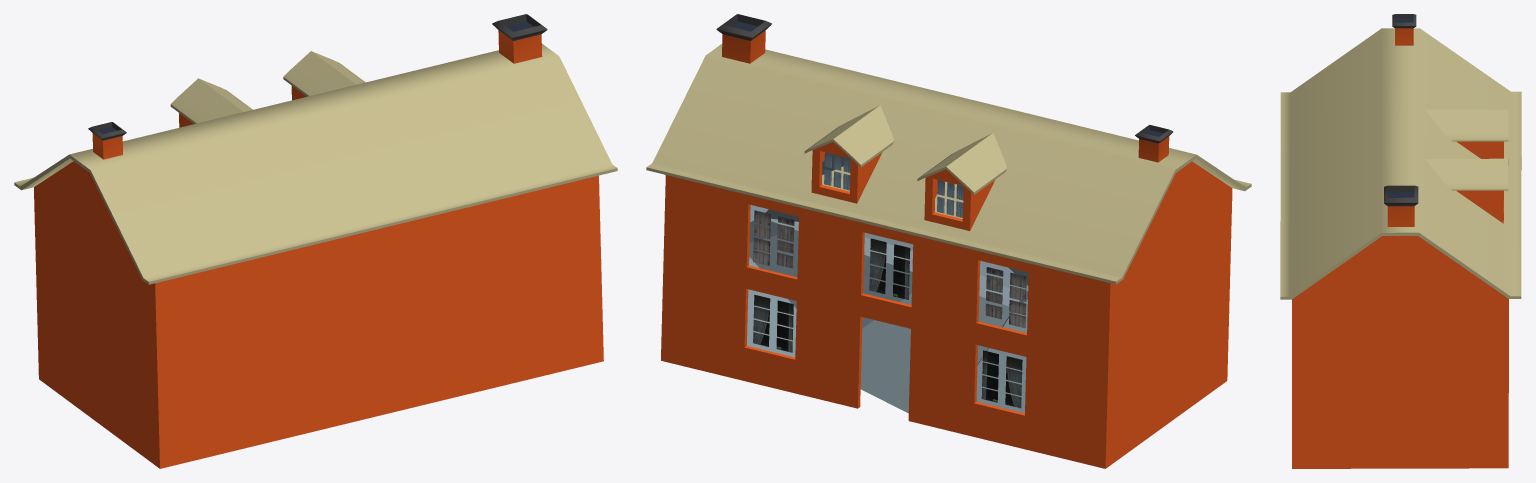
The model's file is HouseFRoot.fbx.
3 views of the same model, side by side, from view 1: azimuth 30°, elevation 25°; view 2: azimuth 150°, elevation 25°; view 3: azimuth 270°, elevation 25° (orthographic). The views are drawn at different scales.
Visible parts, largest first — view 1: Body_sh_3, Body_sh_1, Body_sh_5, Body_sh_4, Body_sh_8, Body_sh_9, Body_sh_7, Body_sh_18, Body_sh_17, Body_sh_12, Body_sh_14, Body_sh_13; view 2: Body_sh_2, Body_sh_5, Body_sh_10, Body_sh_6, Body_sh_8, Body_sh_3, Body_sh_4, Body_sh_9, Body_sh_17, Body_sh_13, Body_sh_12, Body_sh_18 (+2 smaller); view 3: Body_sh_9, Body_sh_5, Body_sh_4, Body_sh_3, Body_sh_10, Body_sh_1, Body_sh_12, Body_sh_17, Body_sh_18, Body_sh_16, Body_sh_14, Body_sh_6 (+1 smaller).
Part boxes in pixels (x1,y1,x2,y2): Body_sh_3: (44, 140, 356, 460); Body_sh_1: (338, 159, 603, 410); Body_sh_5: (329, 44, 606, 163); Body_sh_4: (127, 91, 409, 236); Body_sh_8: (14, 171, 184, 468); Body_sh_9: (450, 153, 617, 398); Body_sh_7: (184, 353, 400, 462); Body_sh_18: (492, 14, 547, 63); Body_sh_17: (170, 78, 252, 127); Body_sh_12: (310, 51, 365, 95); Body_sh_14: (88, 123, 126, 159); Body_sh_13: (283, 51, 311, 100); Body_sh_2: (687, 217, 1014, 427); Body_sh_5: (646, 44, 927, 248); Body_sh_10: (760, 143, 1114, 308); Body_sh_6: (936, 232, 1122, 466); Body_sh_8: (1095, 225, 1227, 468); Body_sh_3: (1009, 135, 1251, 353); Body_sh_4: (900, 89, 1117, 195); Body_sh_9: (661, 233, 742, 380); Body_sh_17: (917, 148, 1005, 230); Body_sh_13: (811, 139, 890, 203); Body_sh_12: (804, 105, 893, 174); Body_sh_18: (716, 14, 771, 63); Body_sh_9: (1280, 289, 1508, 468); Body_sh_5: (1296, 141, 1521, 351); Body_sh_4: (1280, 53, 1454, 191); Body_sh_3: (1280, 28, 1477, 181); Body_sh_10: (1450, 80, 1521, 245); Body_sh_1: (1280, 187, 1327, 291); Body_sh_12: (1425, 158, 1508, 213); Body_sh_17: (1451, 109, 1508, 158); Body_sh_18: (1384, 185, 1418, 226); Body_sh_16: (1425, 109, 1462, 139); Body_sh_14: (1392, 14, 1416, 45); Body_sh_6: (1477, 76, 1521, 112).
Size of the model in its own units: 1143 by 695 by 568.
